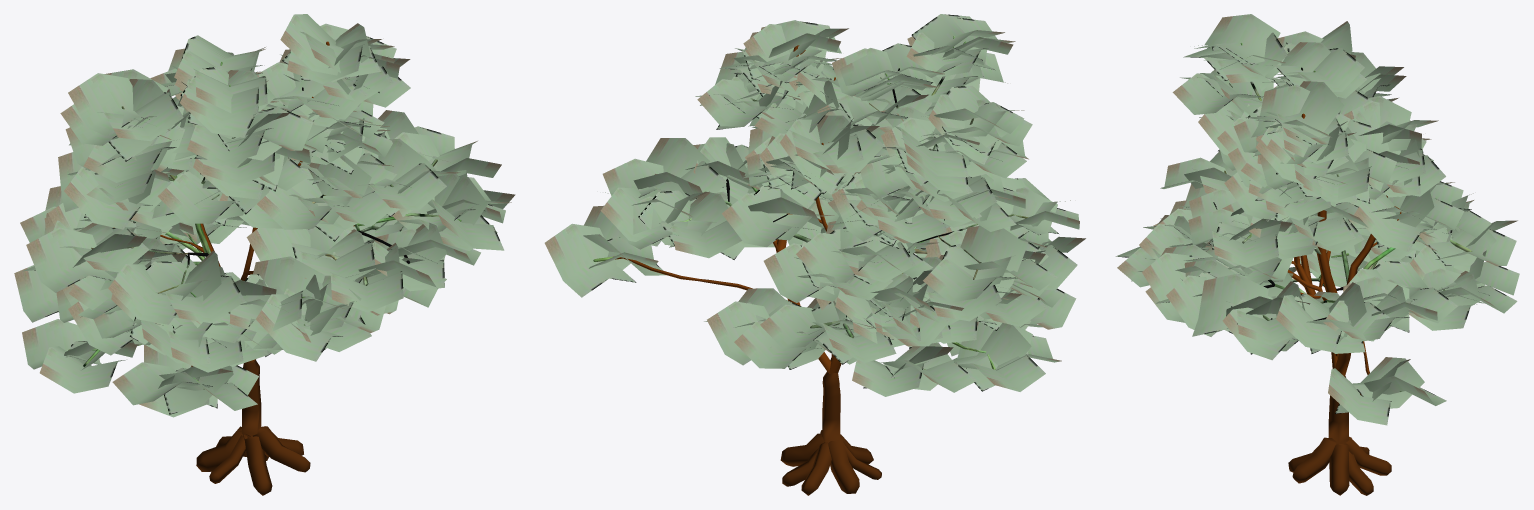
Rendered from tree.glb.
The picture shows the model from 3 angles, left to right: view 1: azimuth 30°, elevation 25°; view 2: azimuth 150°, elevation 25°; view 3: azimuth 270°, elevation 25°; orthographic projection. The views are drawn at different scales.
Visible parts, largest first — view 1: node_5, node_5.001, node_5.002; view 2: node_5, node_5.001, node_5.002; view 3: node_5, node_5.001, node_5.002.
Boxes of the visible parts, left/top/right/bottom form: node_5: left=14, top=14, right=515, bottom=417; node_5.001: left=196, top=360, right=310, bottom=495; node_5.002: left=113, top=41, right=354, bottom=366; node_5: left=544, top=14, right=1085, bottom=396; node_5.001: left=780, top=371, right=881, bottom=495; node_5.002: left=613, top=45, right=902, bottom=373; node_5: left=1115, top=14, right=1519, bottom=425; node_5.001: left=1288, top=376, right=1391, bottom=495; node_5.002: left=1287, top=113, right=1401, bottom=395.
Bounding box in the file's own units: 11.79 × 10.71 × 9.32.
Materials: 3 (1 with a texture image).
